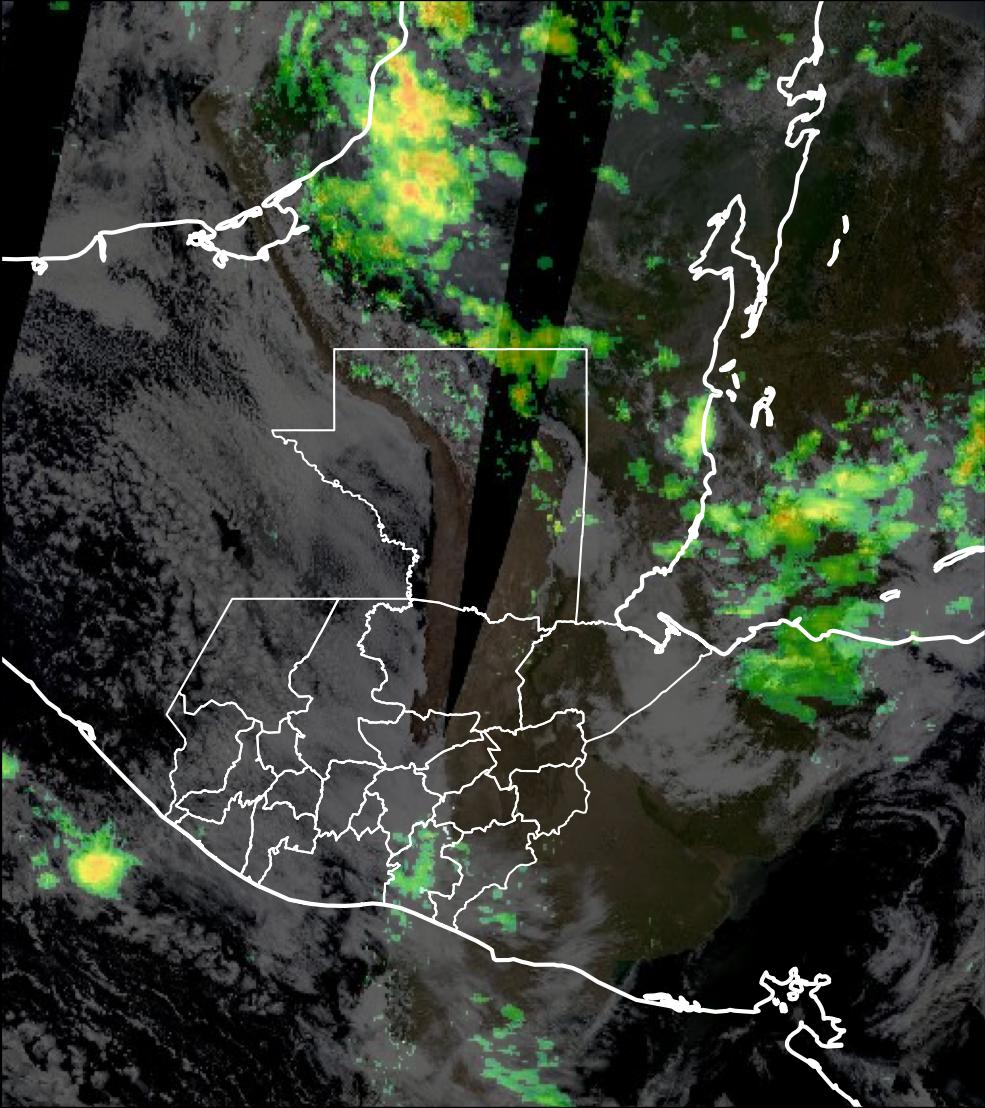precipitacion: (376, 146, 456, 220)
